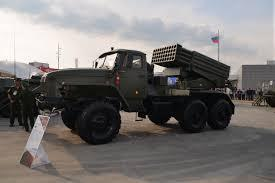MIL_SAM_TEL: (42, 46, 238, 142)
